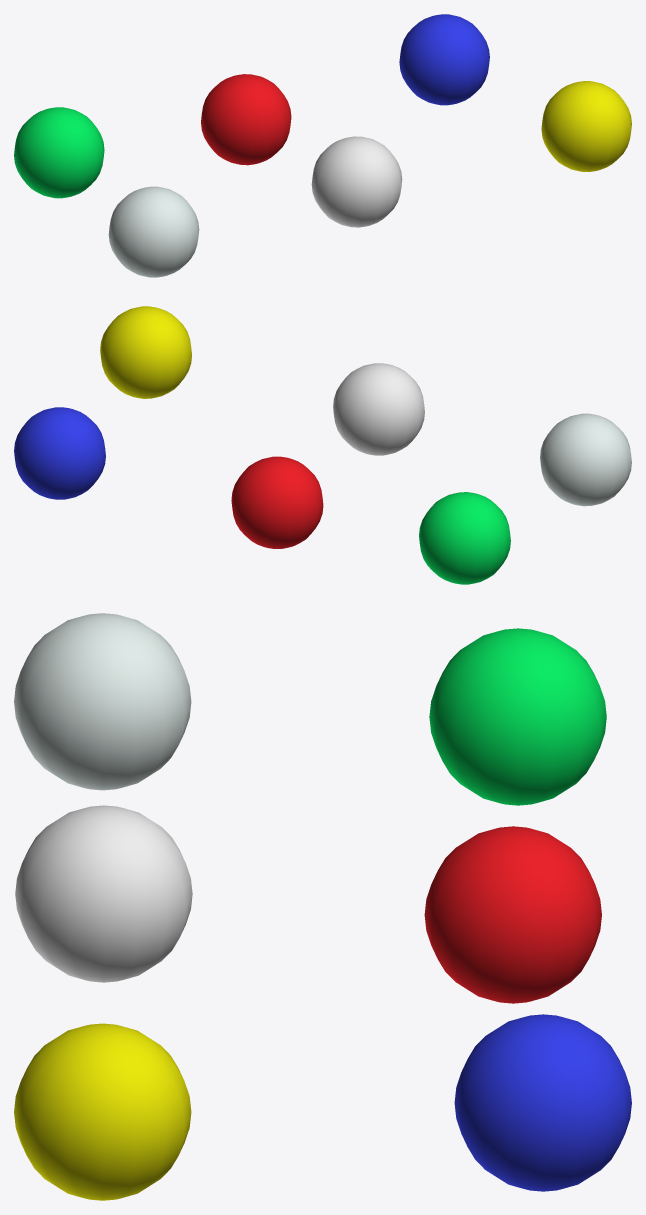
File: grb.glb
The picture shows the model from 3 angles, top to bottom: view 1: azimuth 30°, elevation 25°; view 2: azimuth 150°, elevation 25°; view 3: azimuth 270°, elevation 25°; orthographic projection. The views are drawn at different scales.
Parts seen in each view (by area): view 1: Sphere.001, Sphere.002, Sphere.004, Sphere.005, Sphere, Sphere.003; view 2: Sphere.002, Sphere, Sphere.001, Sphere.004, Sphere.003, Sphere.005; view 3: Sphere.005, Sphere.001, Sphere, Sphere.002, Sphere.004, Sphere.003.
Part boxes in pixels (left/top/right/bottom): Sphere.001: left=311, top=136, right=402, bottom=227; Sphere.002: left=108, top=186, right=199, bottom=277; Sphere.004: left=399, top=14, right=489, bottom=105; Sphere.005: left=14, top=107, right=104, bottom=198; Sphere: left=541, top=81, right=631, bottom=171; Sphere.003: left=201, top=74, right=291, bottom=165; Sphere.002: left=540, top=413, right=631, bottom=506; Sphere: left=100, top=306, right=191, bottom=398; Sphere.001: left=333, top=363, right=424, bottom=455; Sphere.004: left=14, top=407, right=105, bottom=499; Sphere.003: left=231, top=456, right=323, bottom=548; Sphere.005: left=419, top=492, right=510, bottom=584; Sphere.005: left=429, top=628, right=606, bottom=805; Sphere.001: left=15, top=805, right=192, bottom=982; Sphere: left=14, top=1023, right=191, bottom=1200; Sphere.002: left=14, top=613, right=191, bottom=790; Sphere.004: left=454, top=1014, right=631, bottom=1191; Sphere.003: left=424, top=826, right=601, bottom=1003.
Size of the model in its own units: 6.47 by 1.16 by 3.48.
